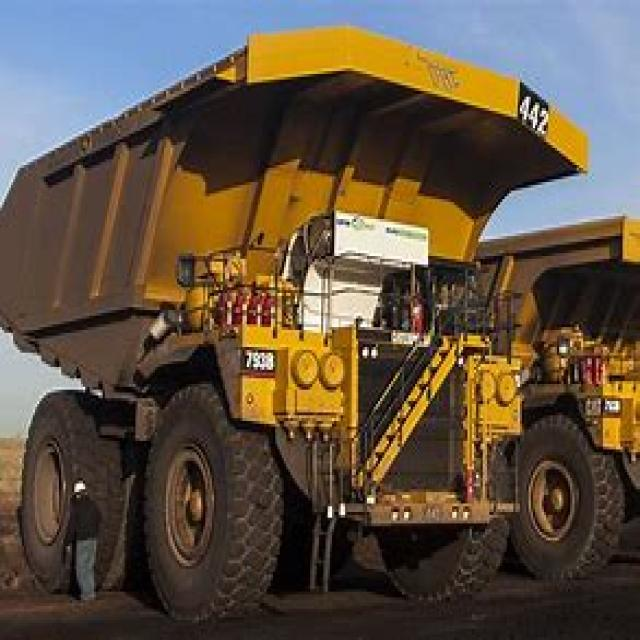dump_truck: (0, 17, 581, 595)
